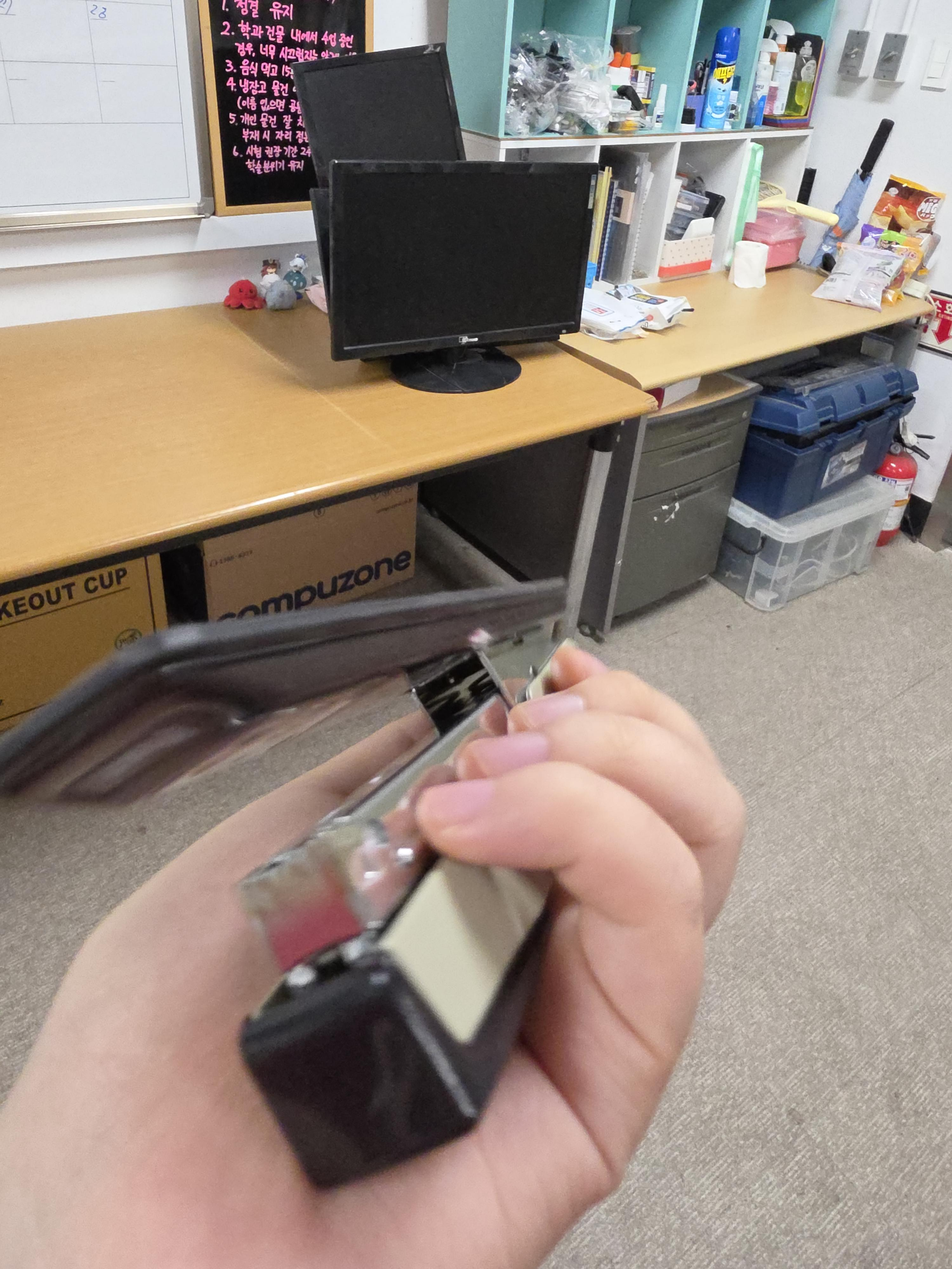stapler: (0, 579, 576, 1193)
tissue: (657, 217, 715, 279), (730, 240, 769, 289)
